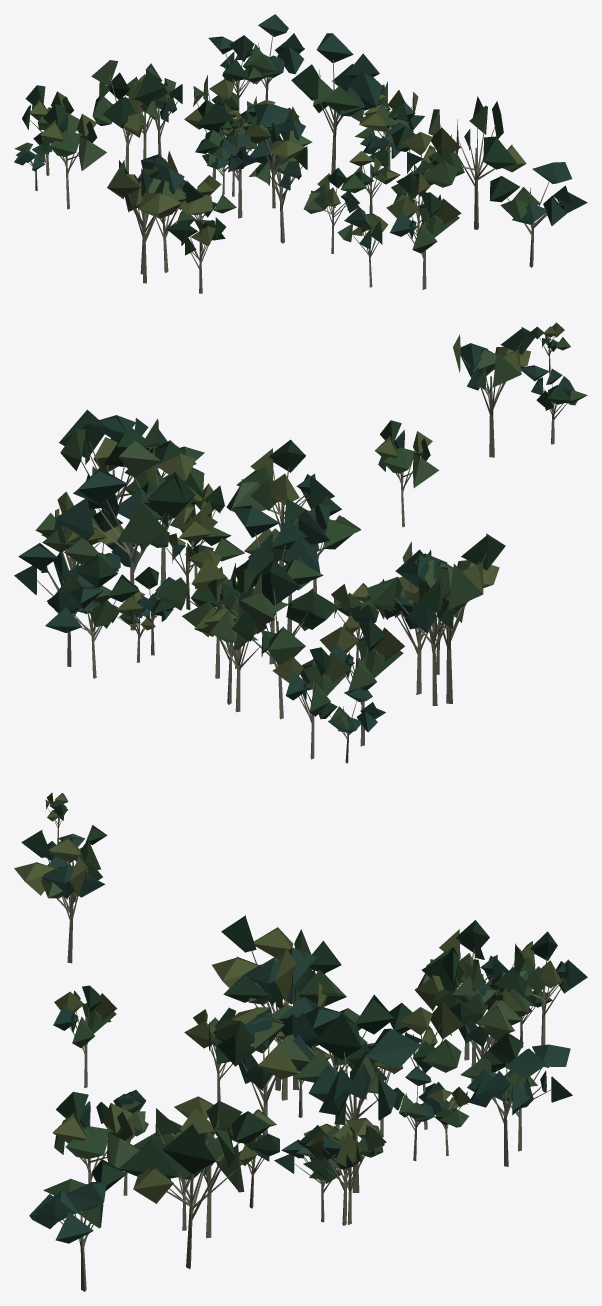
Rendered from forest_25_25.dae.
The picture shows the model from 3 angles, top to bottom: view 1: azimuth 30°, elevation 25°; view 2: azimuth 150°, elevation 25°; view 3: azimuth 270°, elevation 25°; orthographic projection. The views are drawn at different scales.
Visible parts, largest first — view 1: Node; view 2: Node; view 3: Node.
Part boxes in pixels (x1,y1,x2,y2): Node: (14, 14, 587, 293); Node: (14, 322, 587, 763); Node: (14, 792, 587, 1291).
Size of the model in its own units: 11.39 by 11.21 by 6.61.
